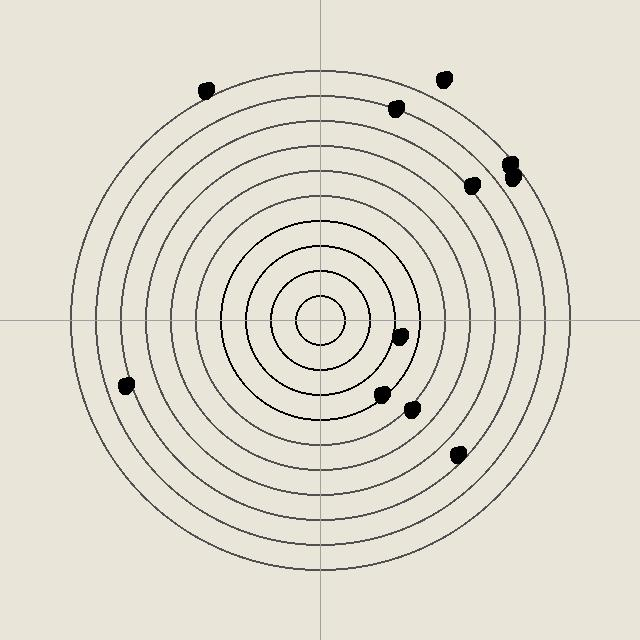random_scatter: (115, 375, 135, 395), (195, 80, 215, 100), (371, 384, 391, 404), (502, 167, 522, 187), (385, 98, 405, 118), (461, 175, 481, 195), (447, 444, 467, 464), (433, 69, 453, 89), (499, 154, 519, 174), (401, 399, 421, 419), (389, 326, 409, 346)
